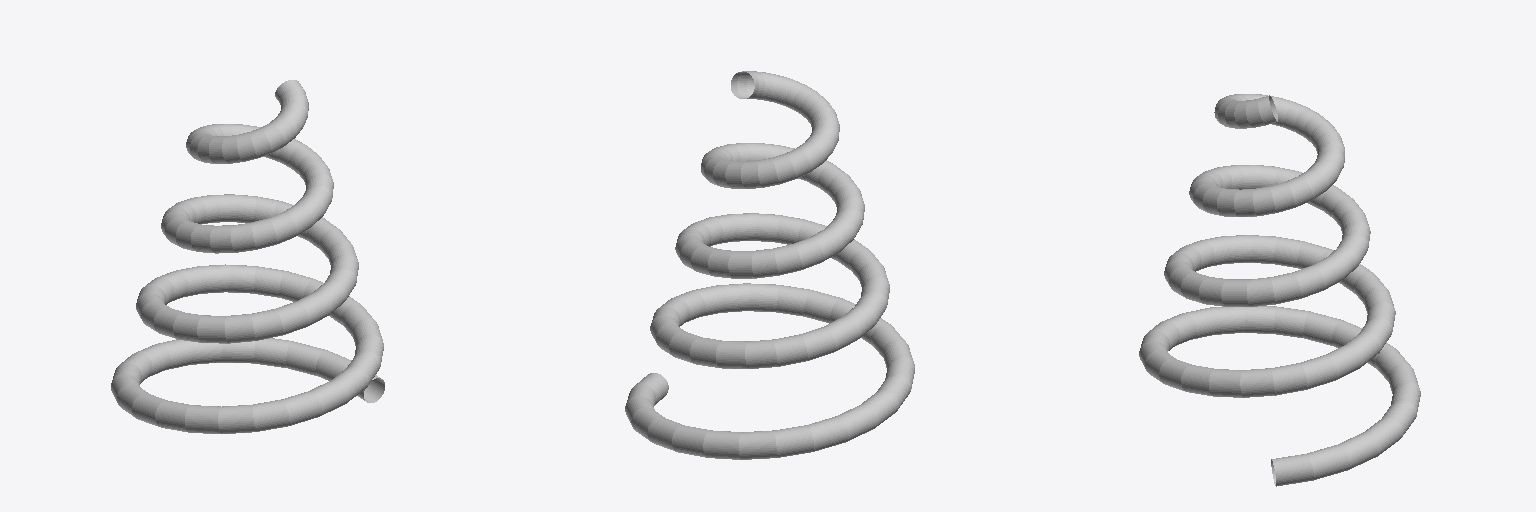
File: spiral.obj
The picture shows the model from 3 angles: view 1: azimuth 30°, elevation 25°; view 2: azimuth 150°, elevation 25°; view 3: azimuth 270°, elevation 25°; orthographic projection.
Visible parts, largest first — view 1: Spiral.001; view 2: Spiral.001; view 3: Spiral.001.
Boxes of the visible parts, x1=… form: Spiral.001: x1=111, y1=80, x2=384, y2=433; Spiral.001: x1=625, y1=71, x2=914, y2=459; Spiral.001: x1=1139, y1=94, x2=1420, y2=486.
Bounding box in the file's own units: 2.11 × 2.74 × 2.02.